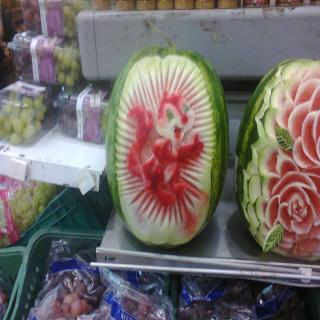Watermelon: (104, 20, 230, 252), (233, 57, 320, 263)
